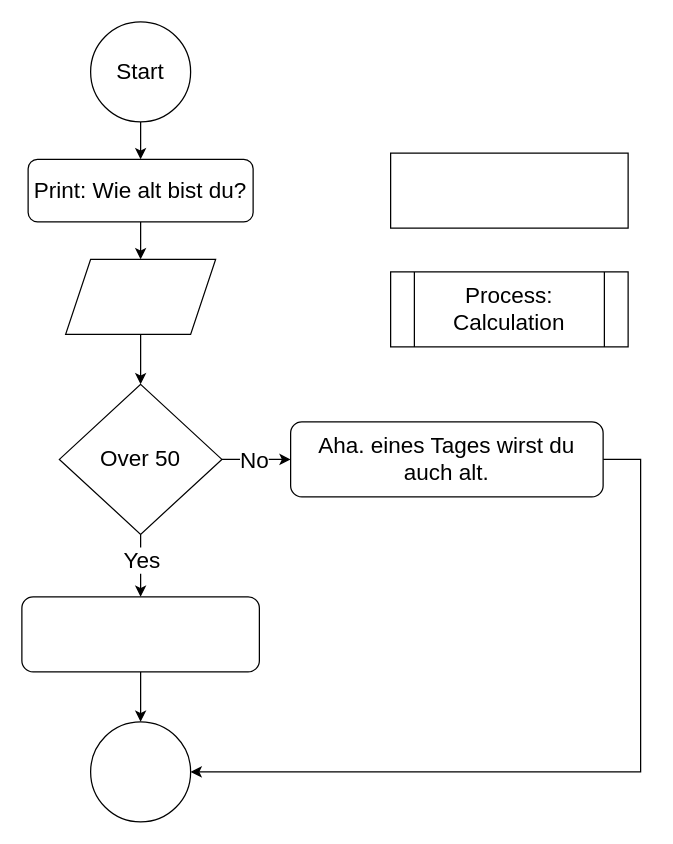
Image size: 673x844. Some labels were removed from this diagram. The centre of each missing label's shape, as x and y in pixels:
"Du bist alt geworden." belongs at pixel 140 634.
"End" belongs at pixel 140 771.
"Input" belongs at pixel 140 296.
